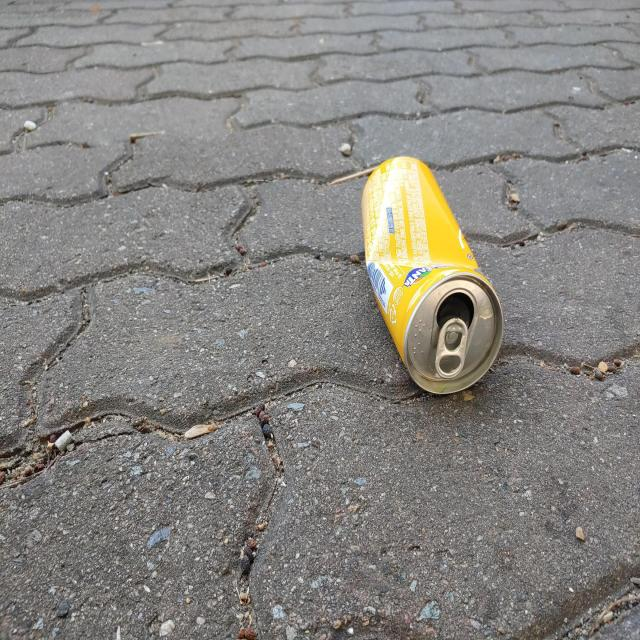can: (363, 156, 504, 394)
